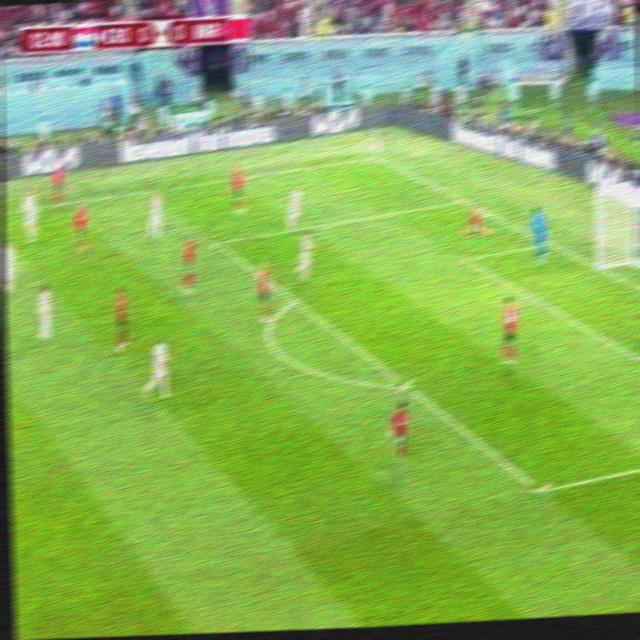bigarea_bottom_inner: (529, 476, 551, 503)
bigarea_top_inner: (209, 234, 223, 250)
bigarea_top_outter: (454, 194, 467, 207)
bottom_arc_area_intersection: (396, 377, 413, 395)
corner: (366, 153, 380, 161)
smallarea_bottom_inner: (625, 344, 640, 368)
smallarea_top_inner: (457, 250, 472, 266)
top_arc_area_intersection: (285, 292, 300, 310)
